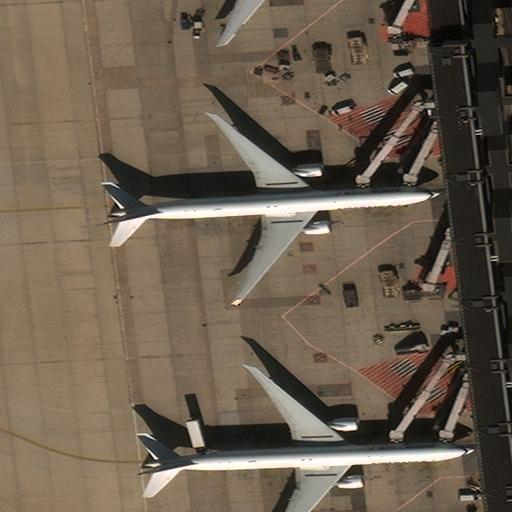Large Civil Transport: (101, 114, 439, 305), (137, 366, 472, 511), (155, 0, 303, 44)
